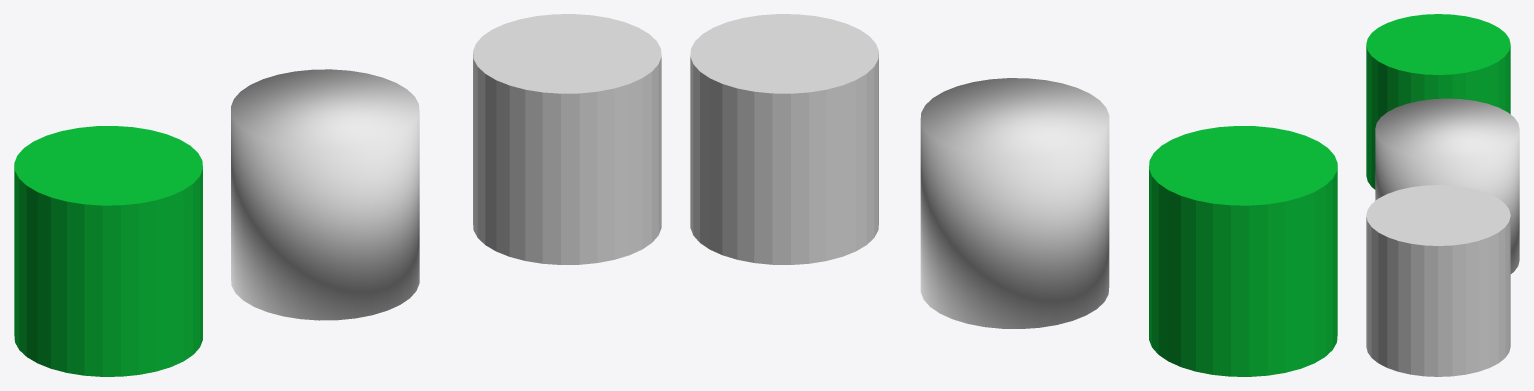
File: hinh-tru-6.glb
3 views of the same model, side by side, from view 1: azimuth 30°, elevation 25°; view 2: azimuth 150°, elevation 25°; view 3: azimuth 270°, elevation 25° (orthographic). The views are drawn at different scales.
Parts seen in each view (by area): view 1: hinhtru.002, hinhtru.001, hinhtru.003; view 2: hinhtru.002, hinhtru.001, hinhtru.003; view 3: hinhtru.003, hinhtru.002, hinhtru.001.
Boxes of the visible parts, bbox=[...] form: hinhtru.002: bbox=[231, 69, 419, 320]; hinhtru.001: bbox=[14, 126, 202, 376]; hinhtru.003: bbox=[473, 14, 661, 264]; hinhtru.002: bbox=[920, 78, 1109, 328]; hinhtru.001: bbox=[1149, 126, 1337, 376]; hinhtru.003: bbox=[690, 14, 878, 264]; hinhtru.003: bbox=[1366, 185, 1510, 376]; hinhtru.002: bbox=[1375, 98, 1519, 273]; hinhtru.001: bbox=[1366, 14, 1510, 189].
Size of what is drawn, in the model's own units: 7.6 by 2.02 by 2.12.
3 materials, 1 textured.
